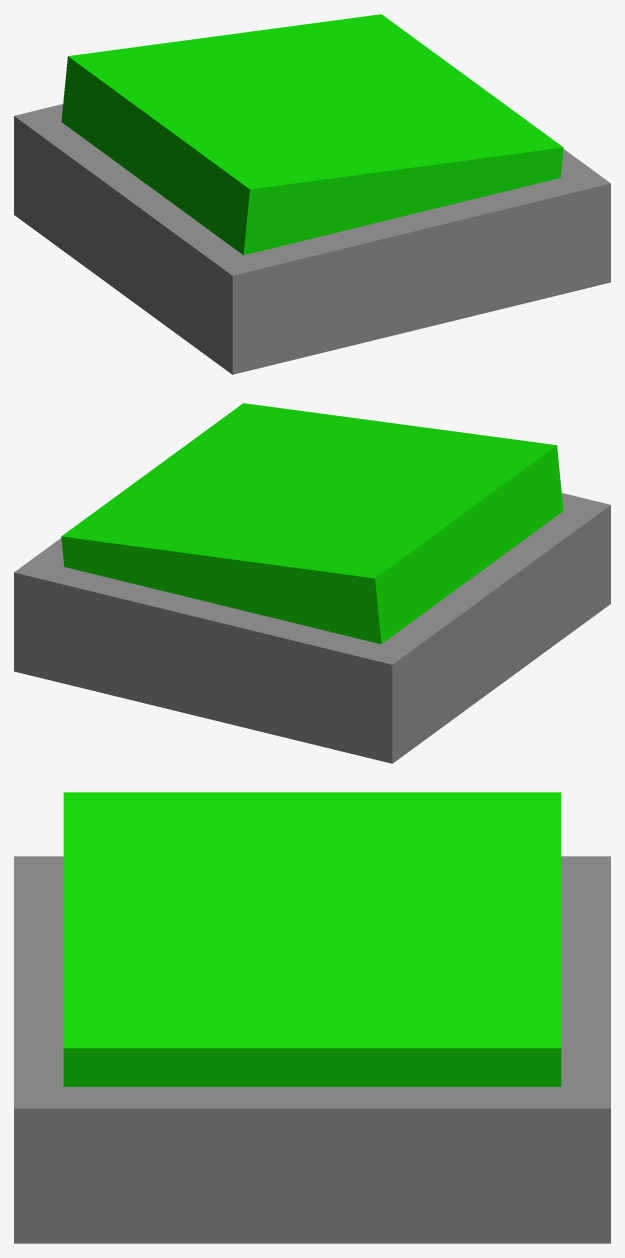
File: ActiveSwitch.fbx
3 views of the same model, one above another, from view 1: azimuth 30°, elevation 25°; view 2: azimuth 150°, elevation 25°; view 3: azimuth 270°, elevation 25° (orthographic). The views are drawn at different scales.
Parts seen in each view (by area): view 1: ActiveSwitch; view 2: ActiveSwitch; view 3: ActiveSwitch.
Boxes of the visible parts, left/top/right/bottom form: ActiveSwitch: left=14, top=14, right=610, bottom=374; ActiveSwitch: left=14, top=403, right=610, bottom=763; ActiveSwitch: left=14, top=792, right=610, bottom=1243.
Size of the model in its own units: 90 by 37.11 by 90.
